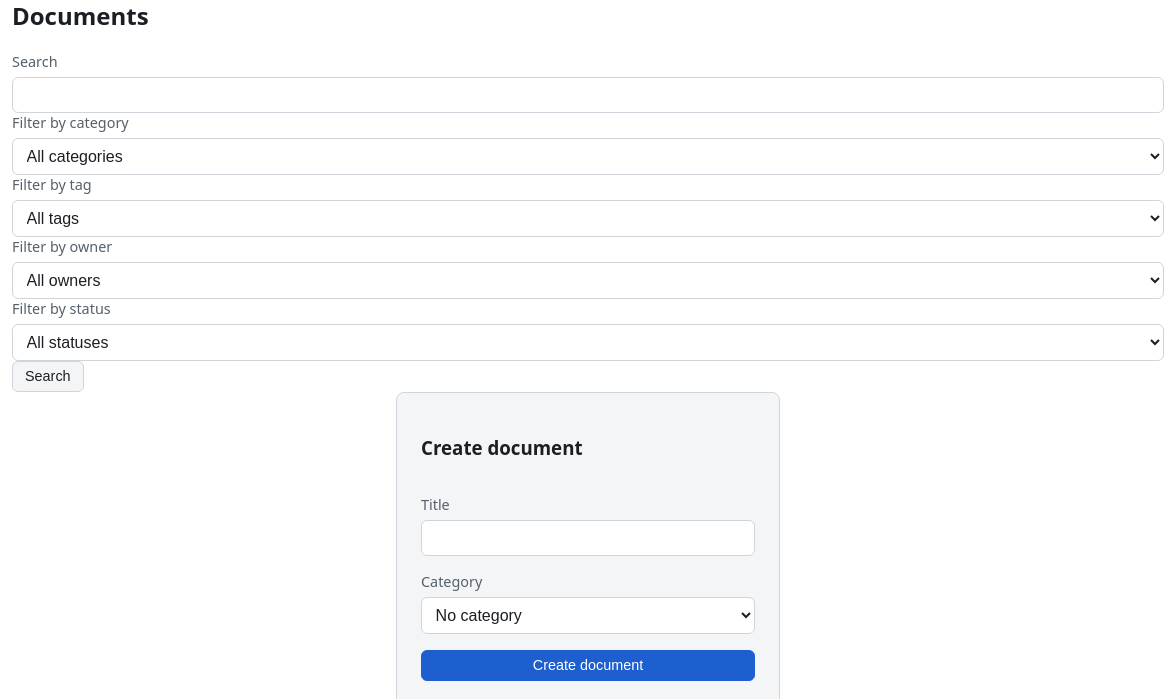
it: DocumentsPage › creates a document and refreshes the list
The image size is (1176, 699).
Type "Quality Manual" into the field labelled "Title" at x=588, y=538, box [421,520,755,556]
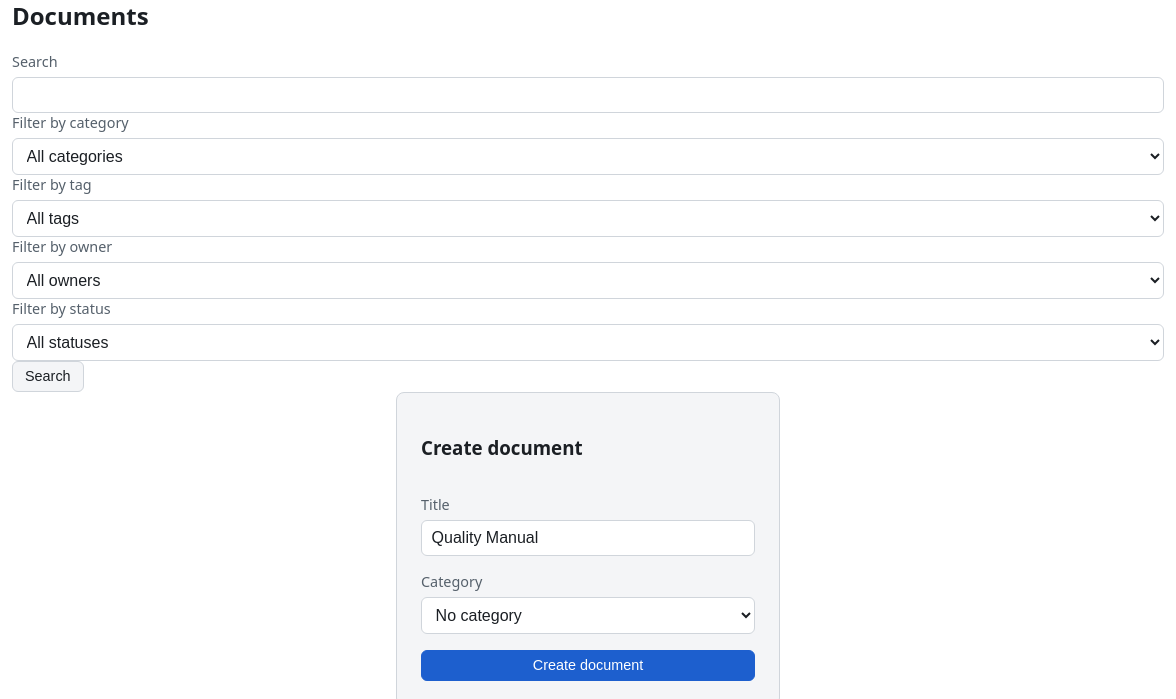
Click the button "Create document" at x=588, y=665, box [421,650,755,681]
(page scrolled)
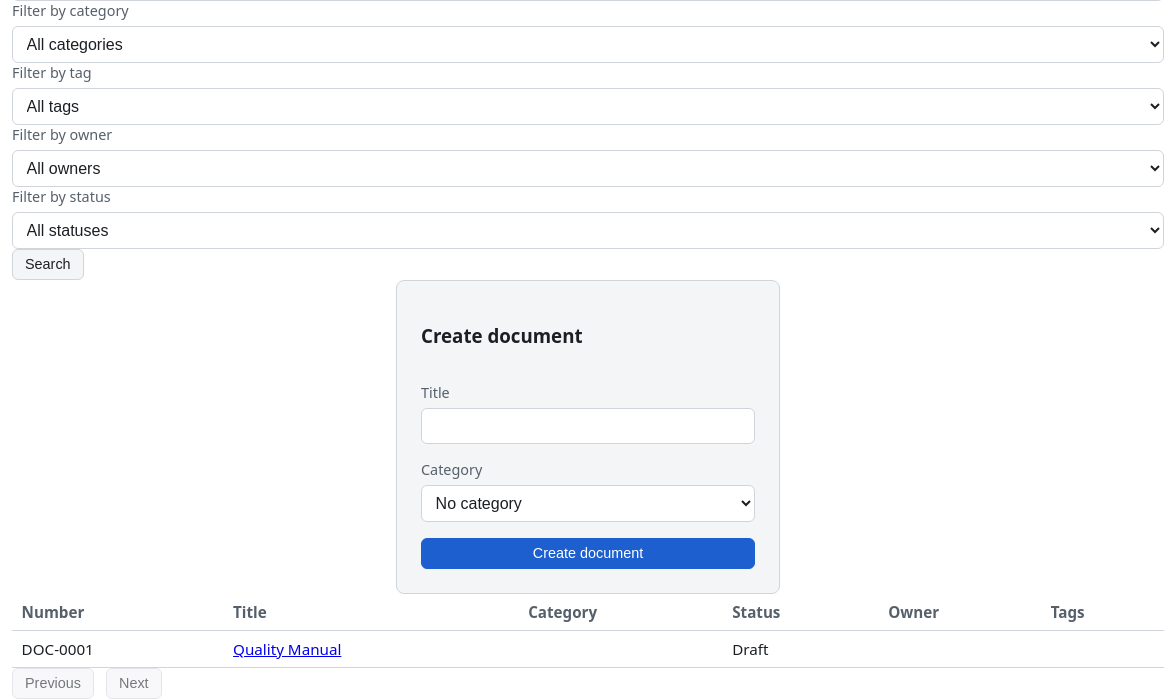
Expected: the link "Quality Manual" is shown, [233,639,341,659]
